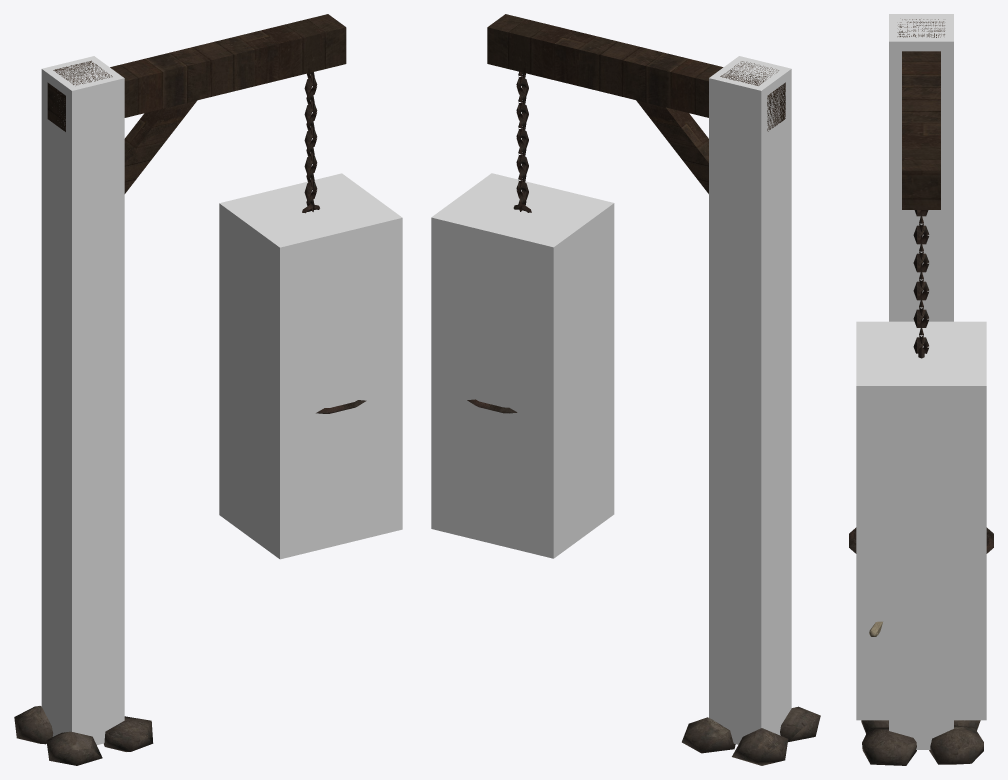
File: gibbet_cage_v1_lite.glb
3 views of the same model, side by side, from view 1: azimuth 30°, elevation 25°; view 2: azimuth 150°, elevation 25°; view 3: azimuth 270°, elevation 25° (orthographic). The views are drawn at different scales.
Parts seen in each view (by area): view 1: col_cage, col_post, gallows; view 2: col_cage, col_post, gallows; view 3: col_cage, col_post, gallows, cage.
Boxes of the visible parts, x1,y1,x2,y2 form: col_cage: (219,173,402,559); col_post: (41,56,124,744); gallows: (14,14,346,765); col_cage: (431,173,614,558); col_post: (709,56,791,744); gallows: (487,14,820,765); col_cage: (856,321,986,720); col_post: (889,14,953,749); gallows: (861,19,983,765); cage: (849,347,993,636).
Size of the model in its own units: 1.97 by 3.68 by 0.6676.
6 materials, 6 textured.
